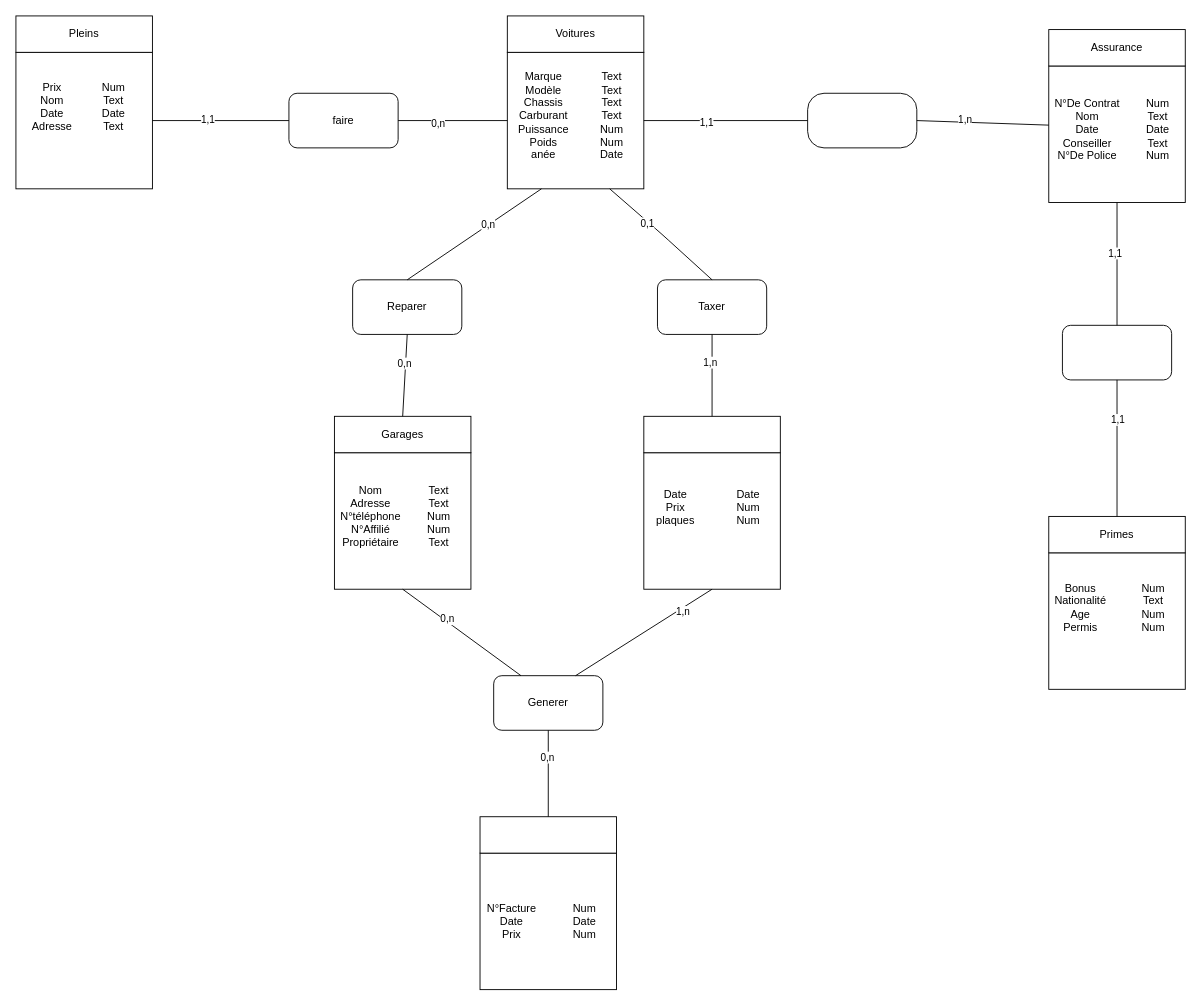
This 1201x1006 diagram has some shape labels left out. The shapes that lost their labels are listed below. From the top down, each one's box as (x1, y1, x2, y2) in pixels, then its label:
(807, 92, 917, 148): Assurer
(1062, 324, 1172, 380): Calculer
(643, 415, 780, 453): Taxes
(479, 816, 617, 853): Factures
